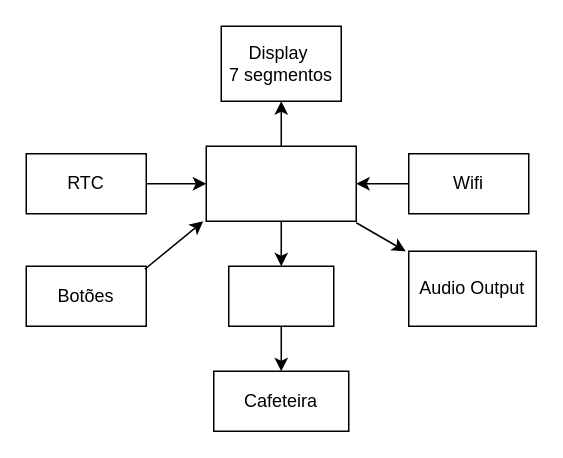
Some shapes in this 563 by 458 pixel diagram are drawn without their labels. The centre of each missing label's shape, as x and y in pixels:
Microcontrolador: (x=280, y=183)
Relé: (x=280, y=295)
